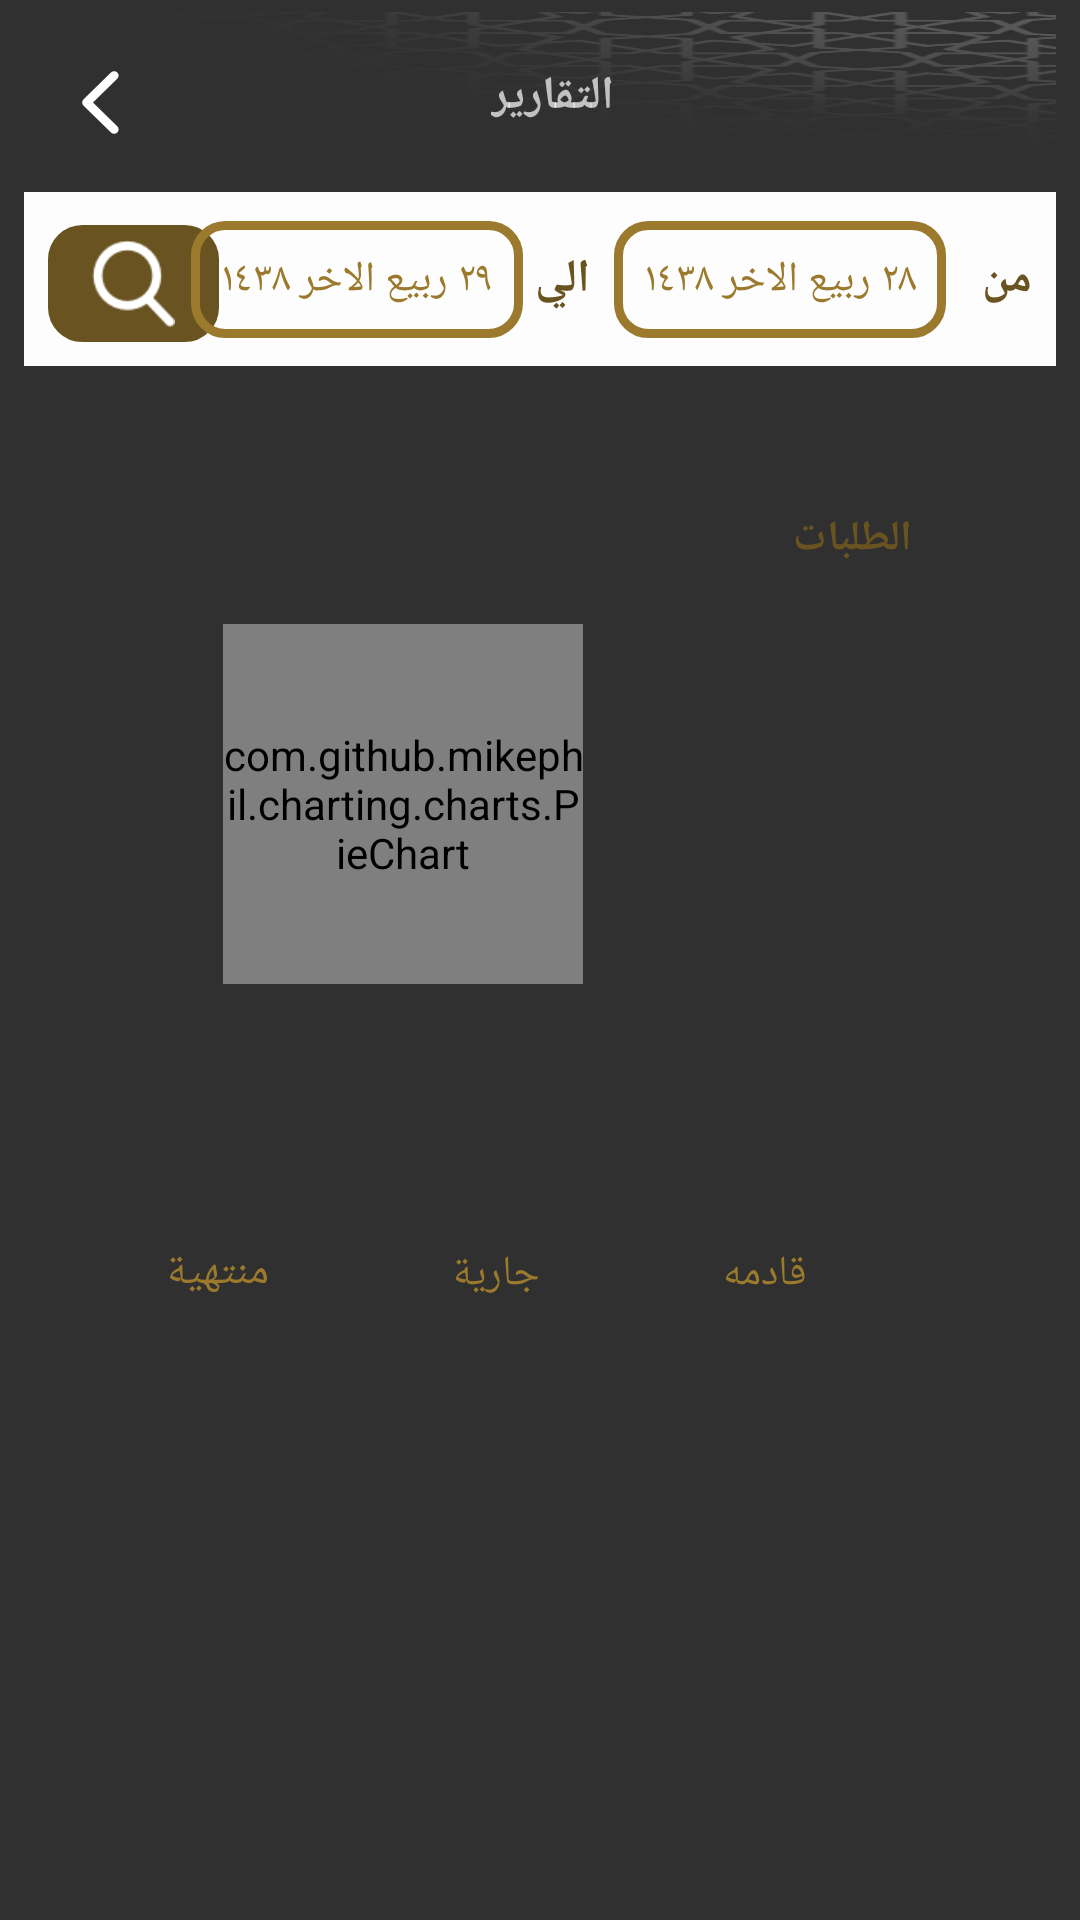

Icons on this 1080w x 1920h Android screen, each with its box as (x1, y1, x2, y2):
search: (48, 225, 219, 342)
